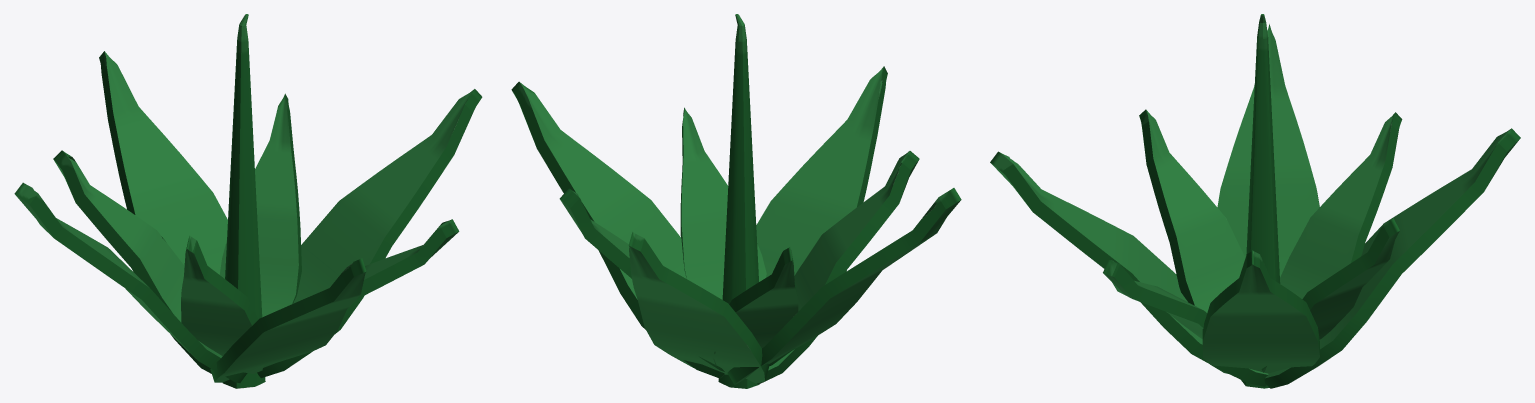
Rendered from FlowerAlive.fbx.
3 views of the same model, side by side, from view 1: azimuth 30°, elevation 25°; view 2: azimuth 150°, elevation 25°; view 3: azimuth 270°, elevation 25° (orthographic).
Visible parts, largest first — view 1: FlowerAlive; view 2: FlowerAlive; view 3: FlowerAlive.
Boxes of the visible parts, x1,y1,x2,y2 form: FlowerAlive: (14,14,482,388); FlowerAlive: (511,14,961,388); FlowerAlive: (990,14,1520,388).
Bounding box in the file's own units: 37.07 × 28.06 × 36.83.
Materials: 1 (1 with a texture image).
